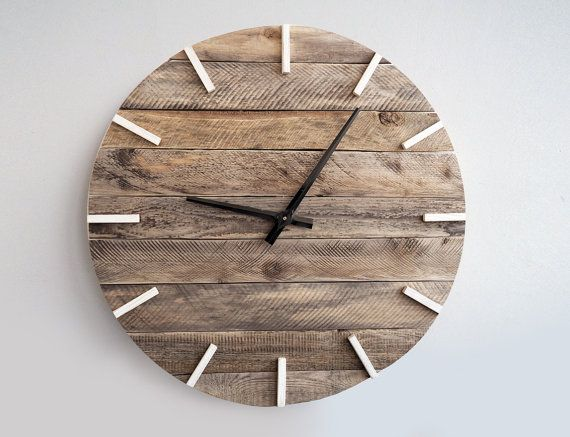clock: (89, 24, 467, 408)
